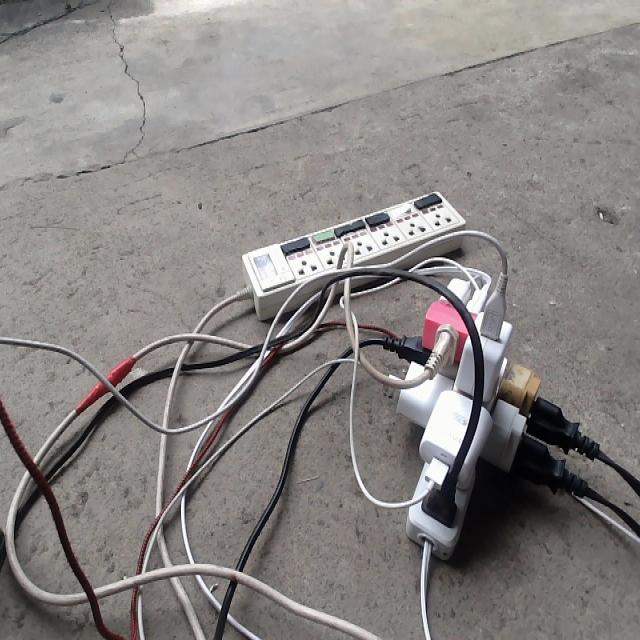-: (389, 263, 569, 556)
